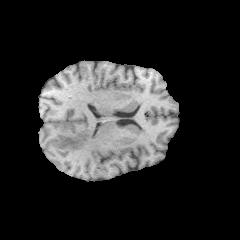glioma: (51, 130, 100, 153)
